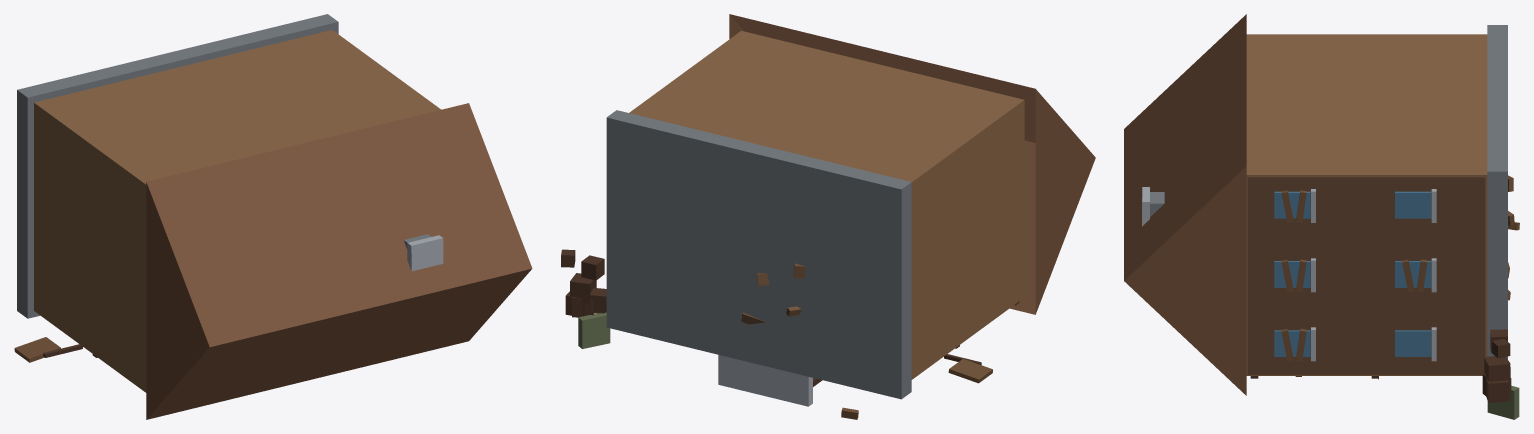
The model's file is worldforge_building_184203.obj.
3 renders of one model, left to right at view 1: azimuth 30°, elevation 25°; view 2: azimuth 150°, elevation 25°; view 3: azimuth 270°, elevation 25°, orthographic. The views are drawn at different scales.
Parts seen in each view (by area): view 1: mainRoof, walls, foundation, chimneyCap, sign; view 2: foundation, walls, mainRoof, porchDeck, deadGrowth, sign, crate_6, crate_3; view 3: rightWallTone, walls, mainRoof, foundation, window_7, window_5, window_10, window_9, window_6, window_8, deadGrowth, crate_6 (+1 smaller).
Boxes of the visible parts, x1,y1,x2,y2 form: mainRoof: (146, 103, 532, 419); walls: (34, 30, 440, 392); foundation: (17, 14, 338, 318); chimneyCap: (407, 235, 443, 271); sign: (14, 337, 60, 362); foundation: (606, 110, 911, 399); walls: (629, 30, 1024, 379); mainRoof: (729, 14, 1095, 314); porchDeck: (718, 355, 812, 406); deadGrowth: (578, 312, 610, 348); sign: (948, 359, 992, 383); crate_6: (570, 273, 596, 303); crate_3: (581, 255, 604, 280); rightWallTone: (1247, 176, 1485, 374); walls: (1246, 34, 1487, 375); mainRoof: (1124, 14, 1246, 395); foundation: (1487, 25, 1507, 359); window_7: (1395, 191, 1431, 218); window_5: (1395, 330, 1431, 356); window_10: (1274, 191, 1310, 218); window_9: (1274, 261, 1310, 287); window_6: (1395, 261, 1431, 287); window_8: (1274, 330, 1310, 356); deadGrowth: (1487, 385, 1519, 419); crate_6: (1484, 356, 1509, 383).
Size of the model in its own units: 9.16 by 5.98 by 8.03.
